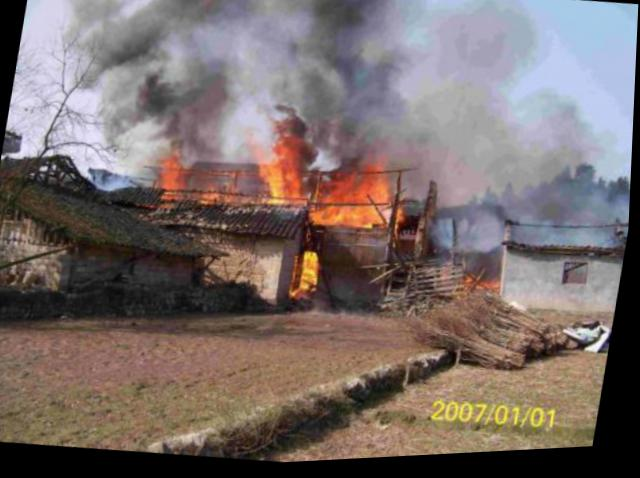fire: (257, 144, 308, 203), (321, 169, 392, 210), (310, 202, 382, 233), (159, 154, 189, 192), (296, 251, 322, 293)
